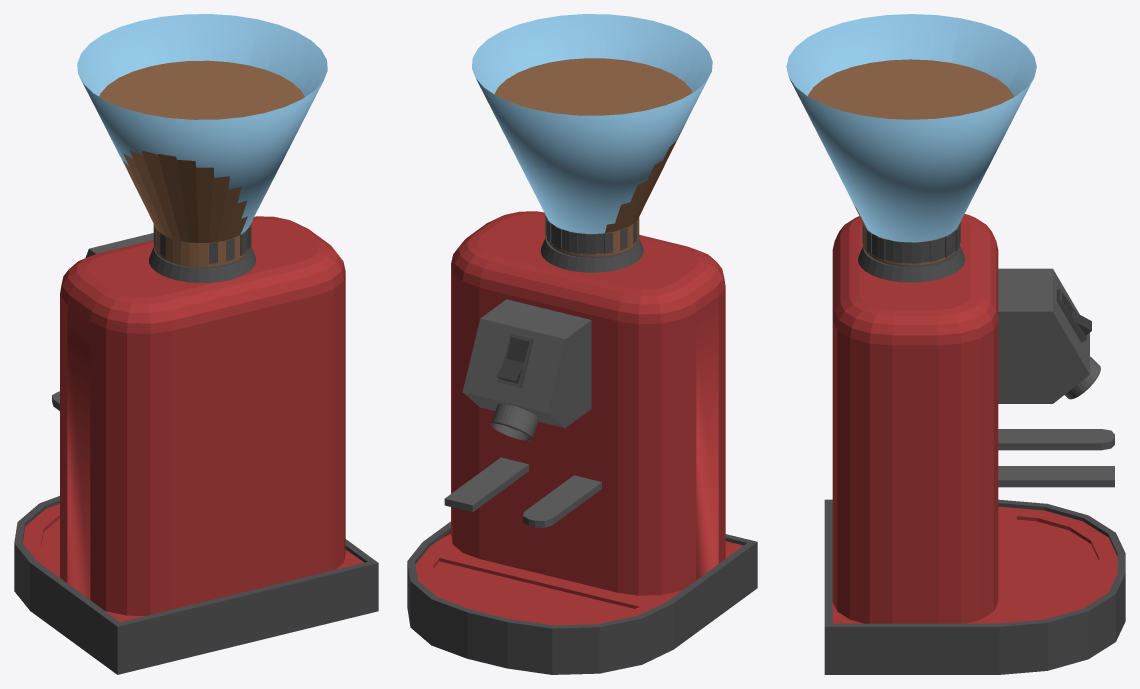
The model's file is CoffeeGrinder.fbx.
3 views of the same model, side by side, from view 1: azimuth 30°, elevation 25°; view 2: azimuth 150°, elevation 25°; view 3: azimuth 270°, elevation 25° (orthographic). The views are drawn at different scales.
Parts seen in each view (by area): view 1: Cube.002; view 2: Cube.002; view 3: Cube.002.
Boxes of the visible parts, x1,y1,x2,y2 form: Cube.002: (14,14,378,674); Cube.002: (407,14,757,674); Cube.002: (786,14,1125,674).
Bounding box in the file's own units: 0.341 × 0.6797 × 0.3845.
